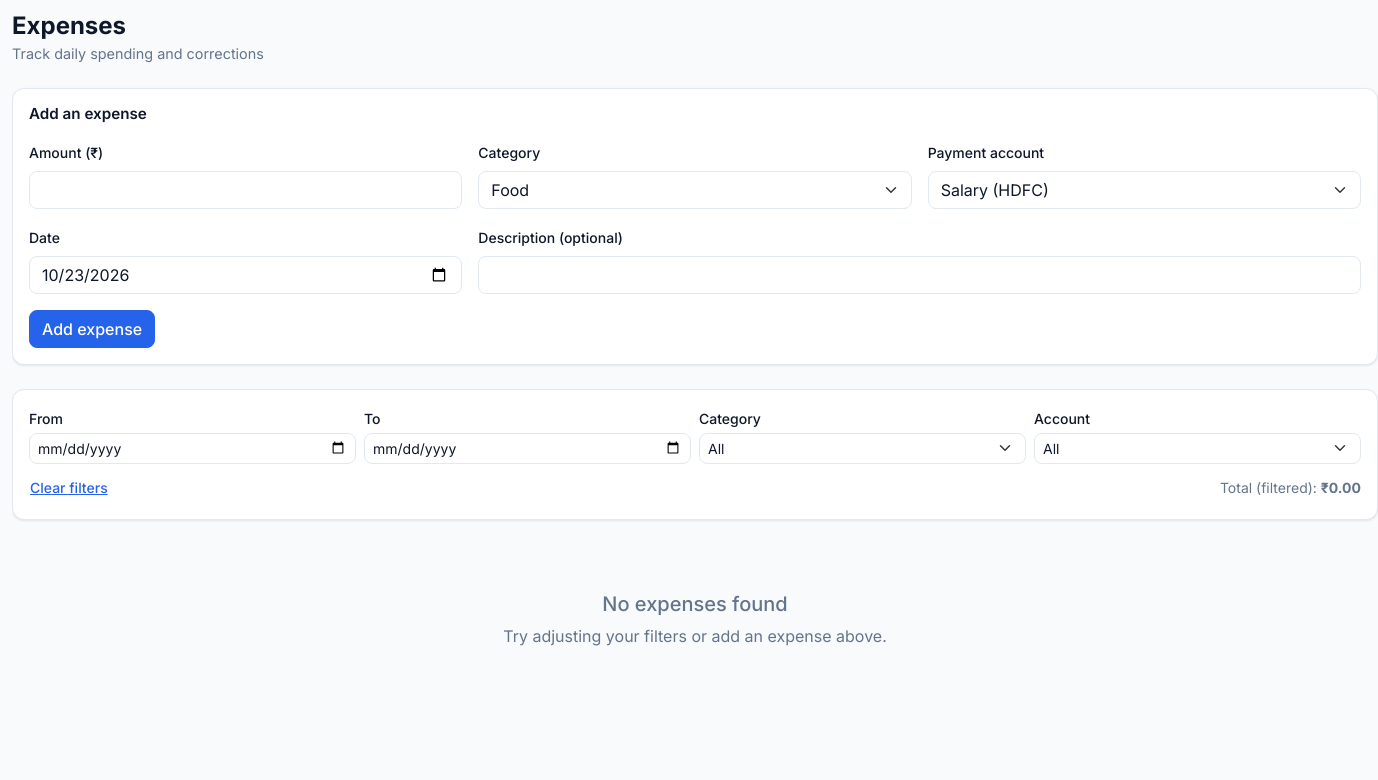
Test: Expenses page › displays a backend validation error
The width and height of the screenshot is (1378, 780).
Type "500" into the number field labelled "Amount (₹)" at (246, 190), box [29,171,462,209]
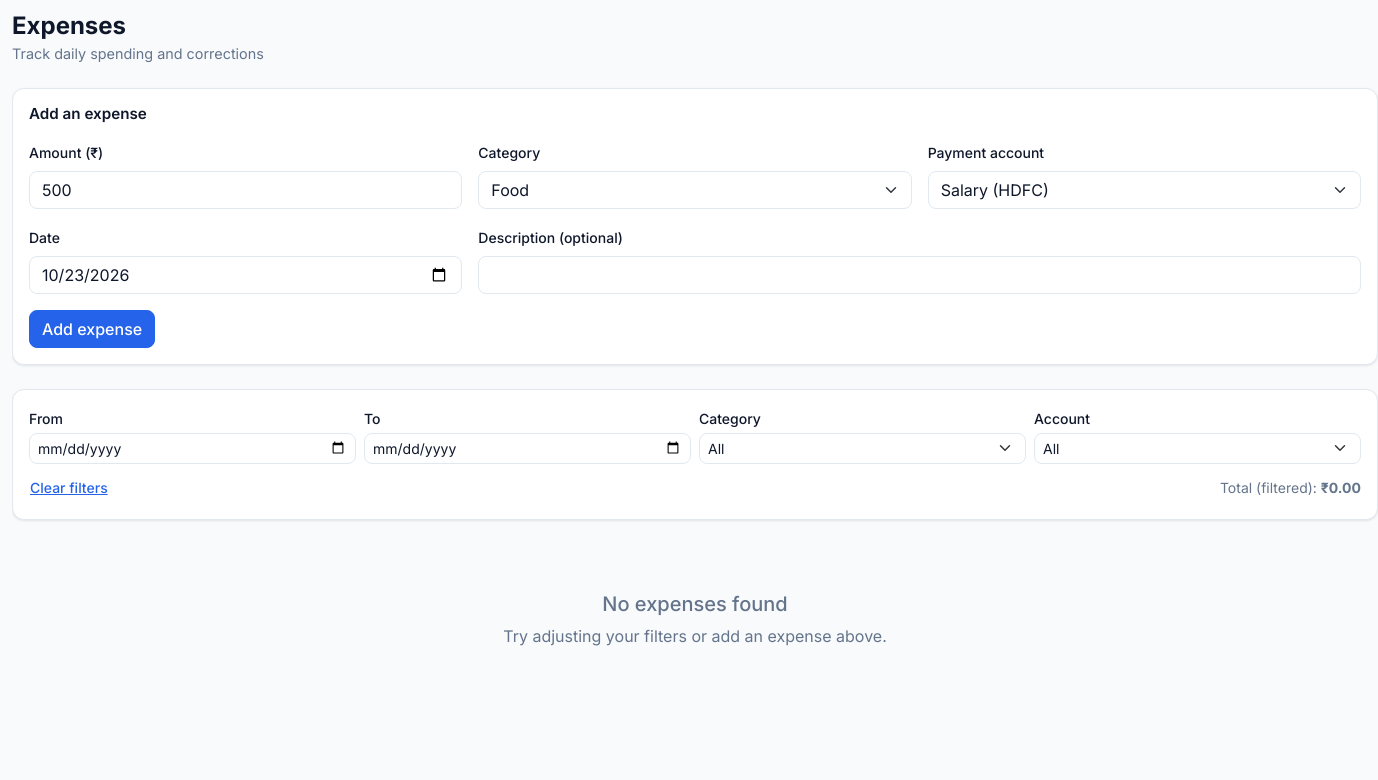
Click the button "Add expense" at (92, 329), box [29,310,155,348]
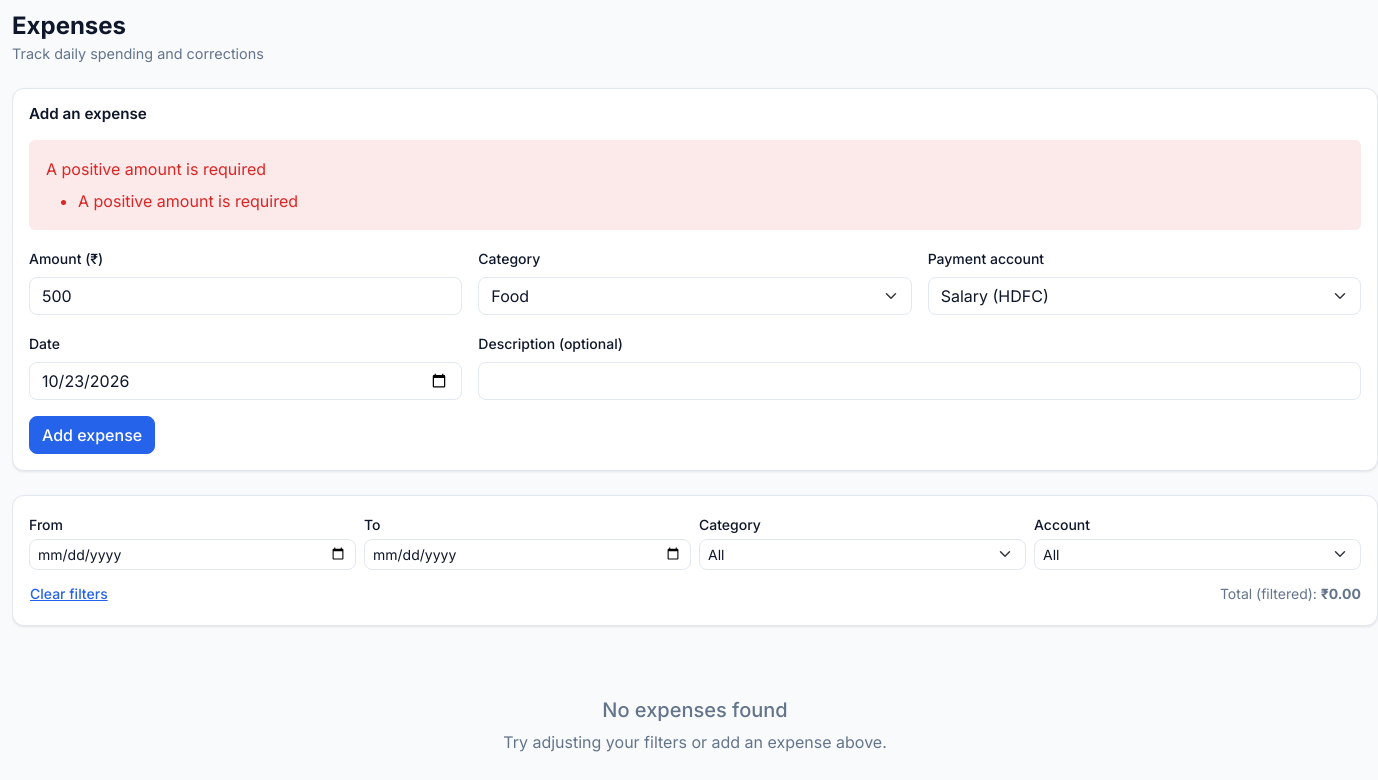
Result: the text "A positive amount is required A positive amount is required" is shown at [29,140,1361,230]
